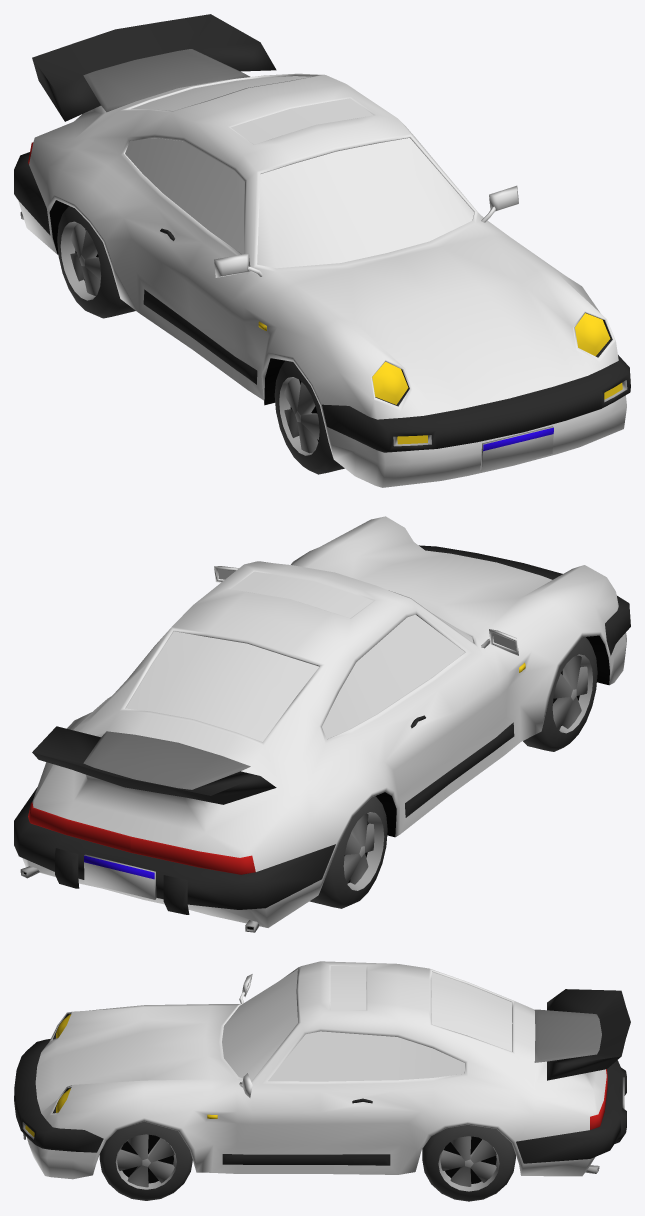
3 renders of one model, top to bottom at view 1: azimuth 30°, elevation 25°; view 2: azimuth 150°, elevation 25°; view 3: azimuth 270°, elevation 25°, orthographic. The views are drawn at different scales.
Parts seen in each view (by area): view 1: 911_CAR, 911_TD, 911_FD; view 2: 911_CAR, 911_TD, 911_FD; view 3: 911_CAR, 911_TE, 911_FE.
Boxes of the visible parts, x1,y1,x2,y2 form: 911_CAR: (14, 14, 630, 487); 911_TD: (57, 206, 135, 318); 911_FD: (274, 360, 344, 474); 911_CAR: (14, 516, 630, 932); 911_TD: (309, 796, 387, 908); 911_FD: (523, 637, 597, 751); 911_CAR: (14, 961, 630, 1179); 911_TE: (422, 1125, 515, 1201); 911_FE: (99, 1121, 192, 1200).
Bounding box in the file's own units: 183 × 130 × 427.
